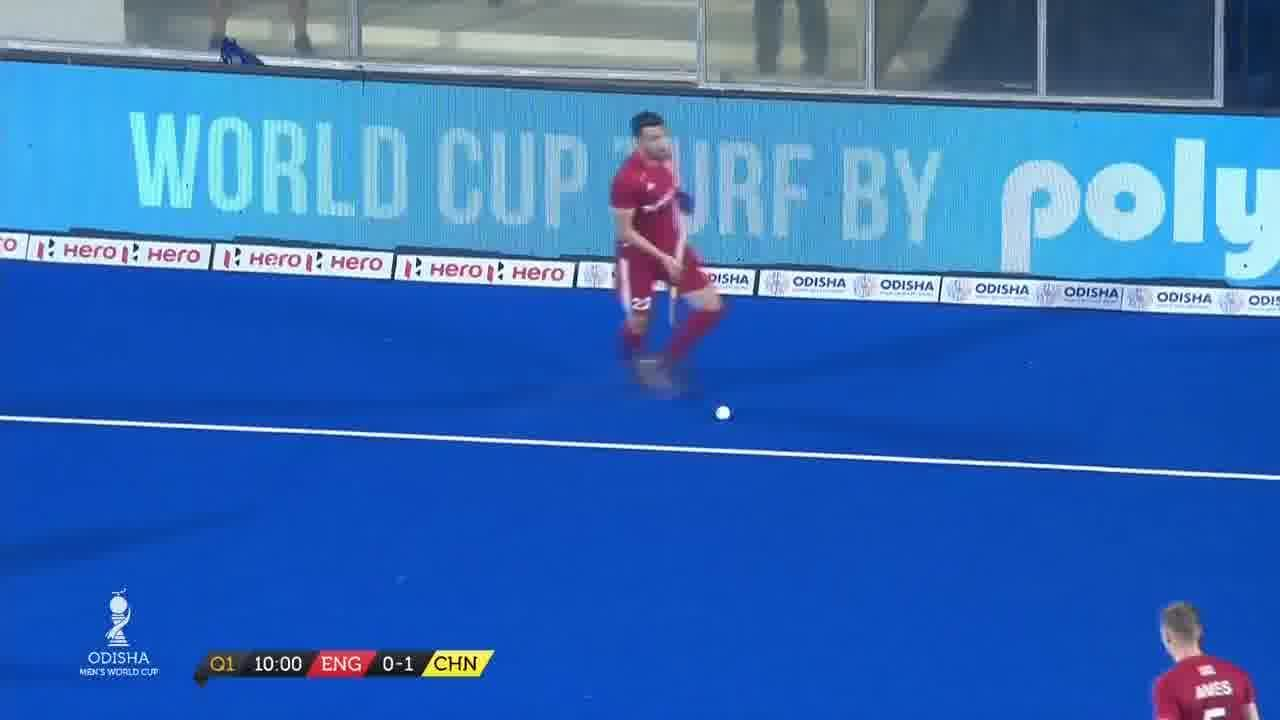ball: (708, 398, 740, 428)
